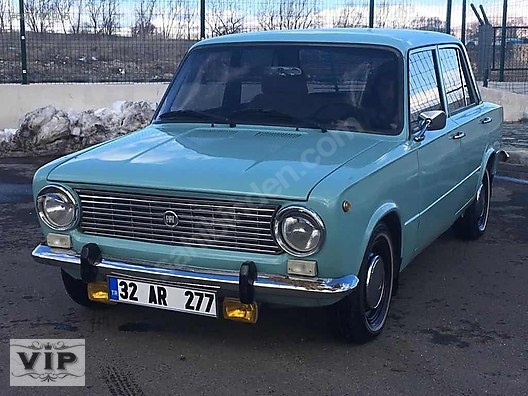murat: (22, 33, 504, 338)
